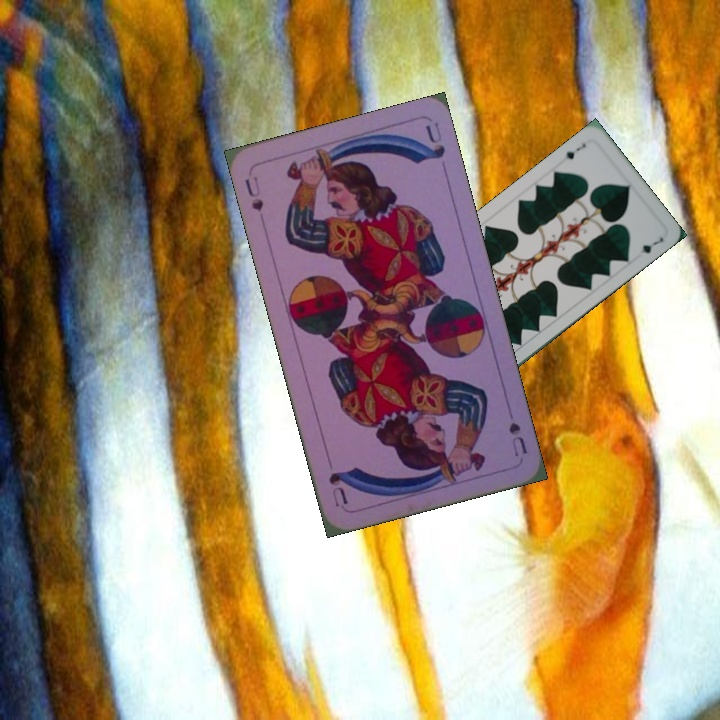G7: (561, 139, 588, 162)
SU: (240, 172, 266, 214), (504, 418, 530, 459)
